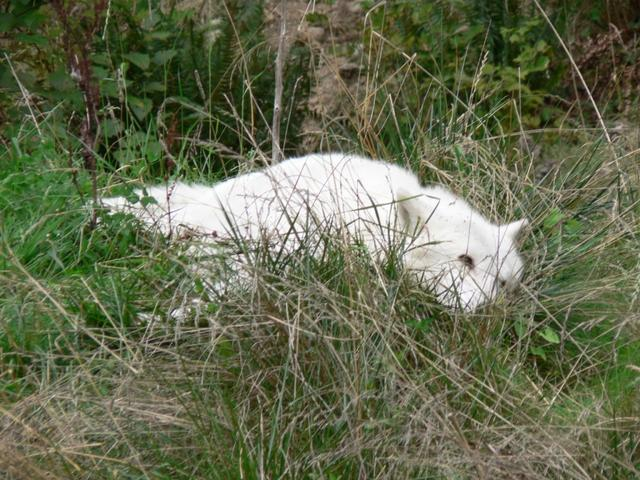cat: (50, 121, 537, 348)
